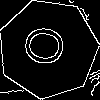O: (23, 24, 75, 70)
